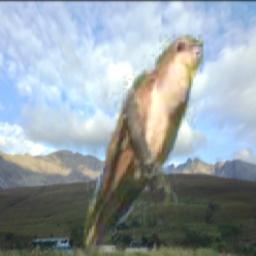Cuckoo: (77, 35, 203, 256)
